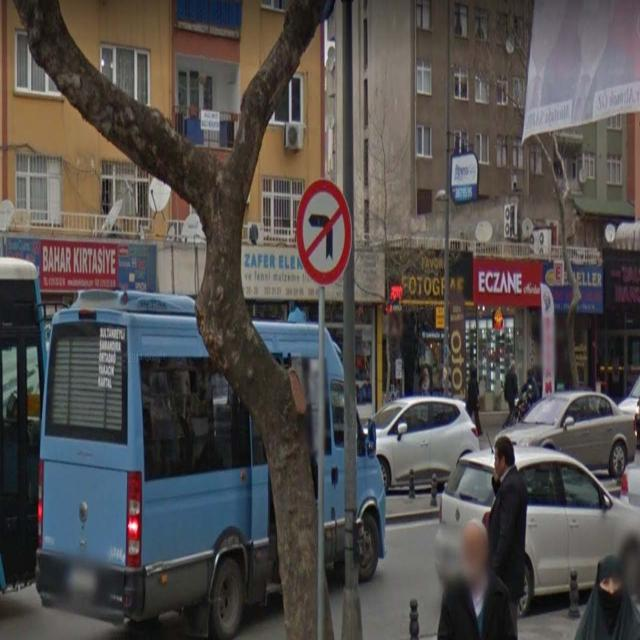soladonulmez: (296, 180, 350, 286)
